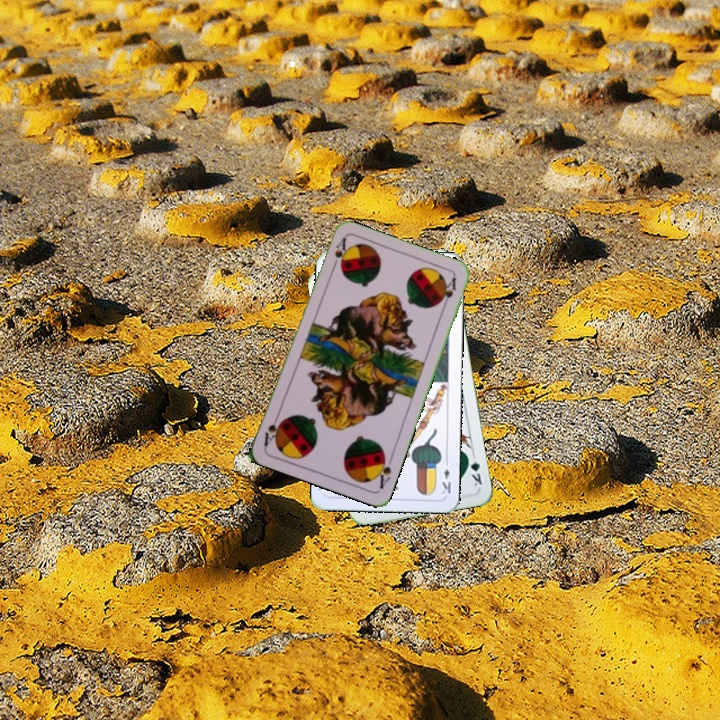EK: (438, 456, 453, 496)
GK: (463, 449, 484, 489)
SA: (371, 450, 396, 492), (328, 234, 349, 273)
